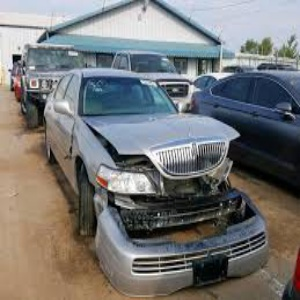bumper: (103, 196, 271, 287)
